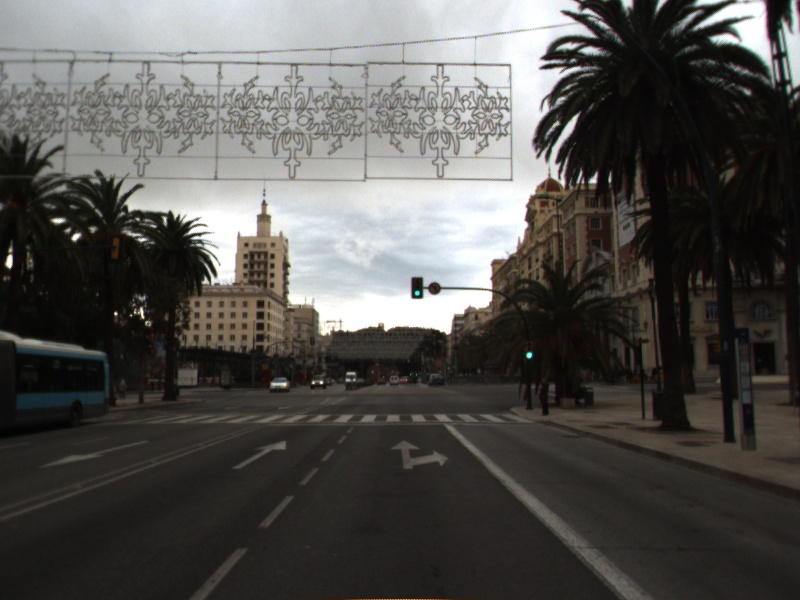STRAIGHT: (229, 438, 288, 471)
STRAIGHT_RIGHT: (388, 438, 451, 471)
